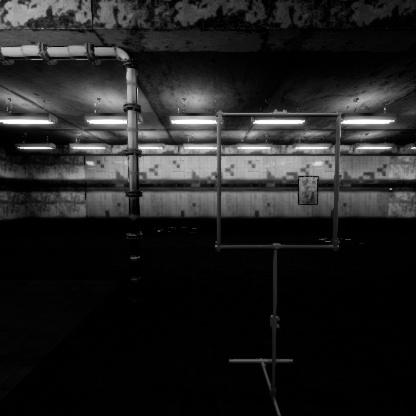gate: (216, 165, 352, 303)
